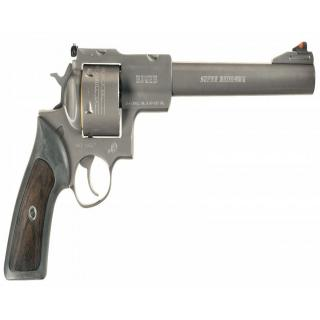gun: (4, 14, 318, 304)
